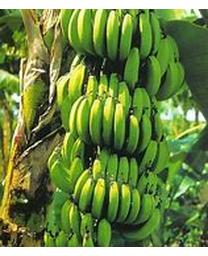banana: (44, 13, 186, 243)
